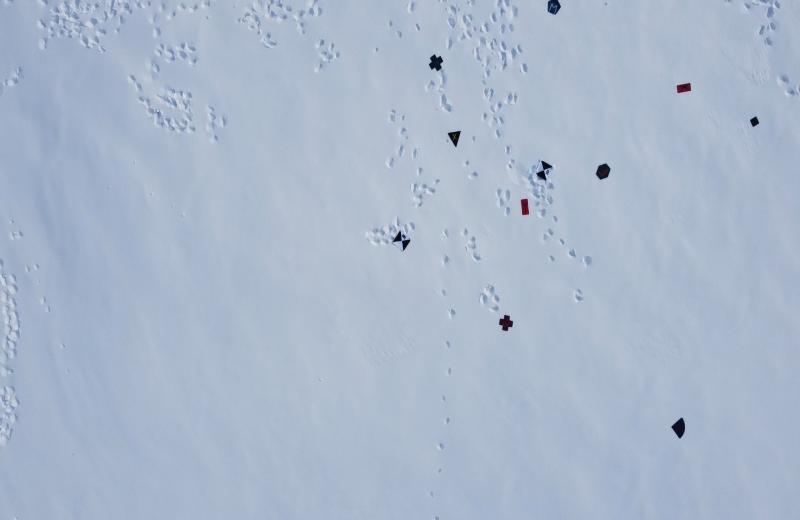Cross: (427, 53, 445, 72), (498, 314, 514, 332)
Hexagon: (594, 161, 611, 181)
Pentagon: (546, 0, 563, 15)
Quarter Circle: (670, 416, 688, 440)
Rectangle: (519, 196, 530, 214), (676, 82, 691, 95)
Square: (749, 115, 760, 128)
Triangle: (446, 130, 464, 149)
